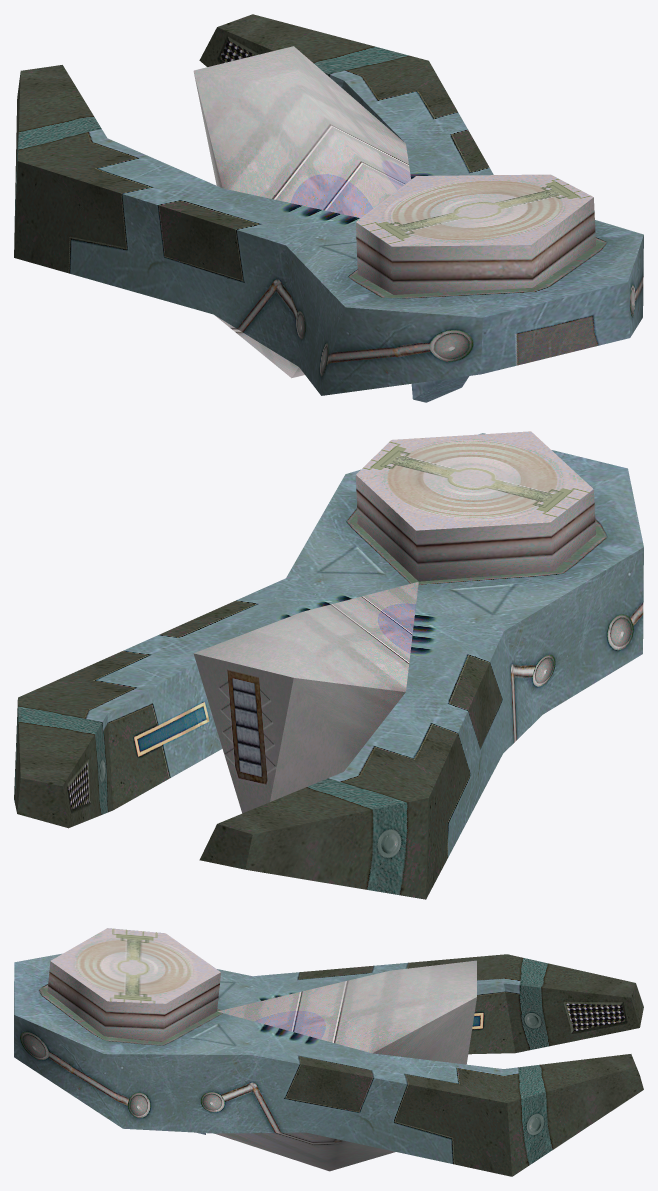
File: afps_9.glb
3 views of the same model, one above another, from view 1: azimuth 30°, elevation 25°; view 2: azimuth 150°, elevation 25°; view 3: azimuth 270°, elevation 25° (orthographic). The views are drawn at different scales.
Visible parts, largest first — view 1: weapon9; view 2: weapon9; view 3: weapon9.
Boxes of the visible parts, <box> form: weapon9: <box>14,14,643,402</box>; weapon9: <box>14,431,643,899</box>; weapon9: <box>14,928,643,1176</box>.
Bounding box in the file's own units: 0.5887 × 0.3528 × 1.05.
Materials: 1 (1 with a texture image).
